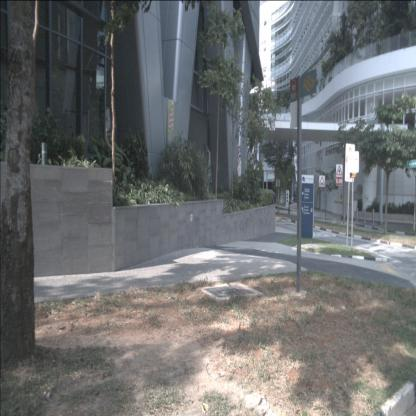human-pedestrian-adult: (293, 191, 296, 203)
